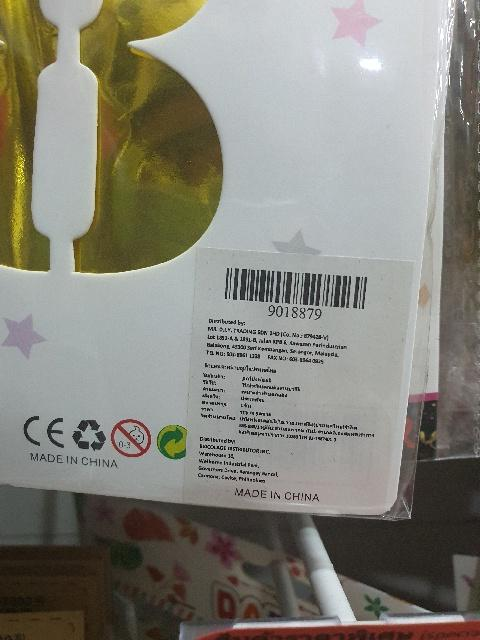Barcode: (218, 263, 372, 326)
